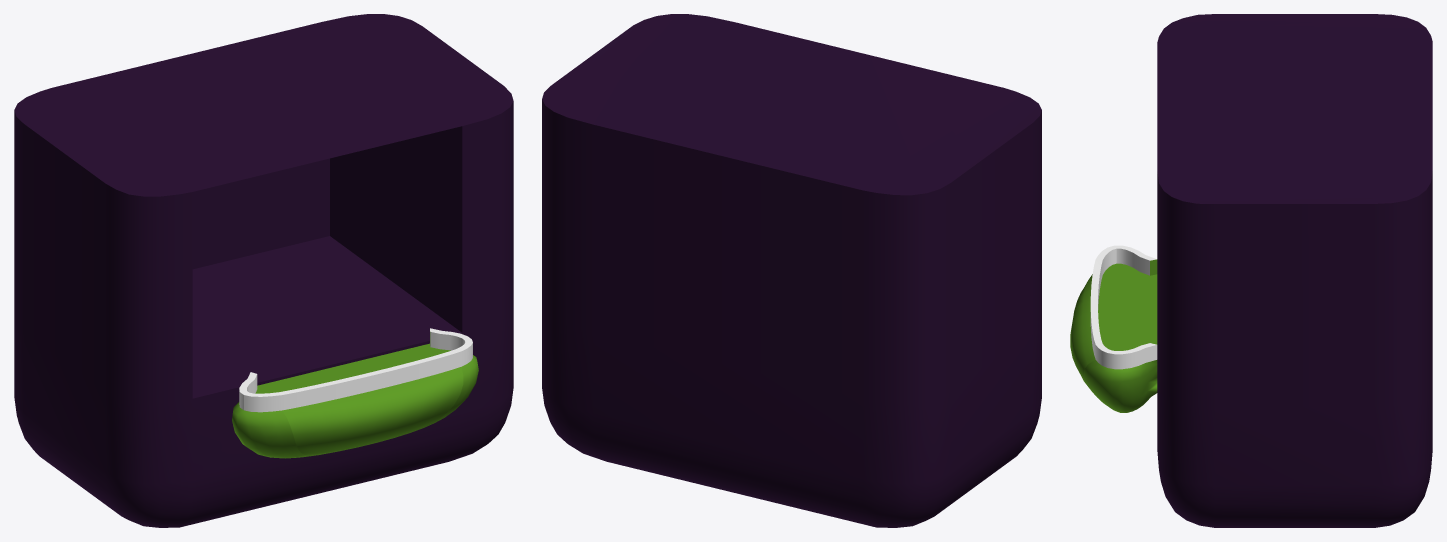
Rendered from BaseCargador.fbx.
3 views of the same model, side by side, from view 1: azimuth 30°, elevation 25°; view 2: azimuth 150°, elevation 25°; view 3: azimuth 270°, elevation 25° (orthographic). The views are drawn at different scales.
Visible parts, largest first — view 1: Box029; view 2: Box029; view 3: Box029.
Part boxes in pixels (<box>): Box029: <box>14,14,513,527</box>; Box029: <box>542,14,1041,527</box>; Box029: <box>1070,14,1432,527</box>.
Size of the model in its own units: 22.59 by 19.12 by 18.2.
